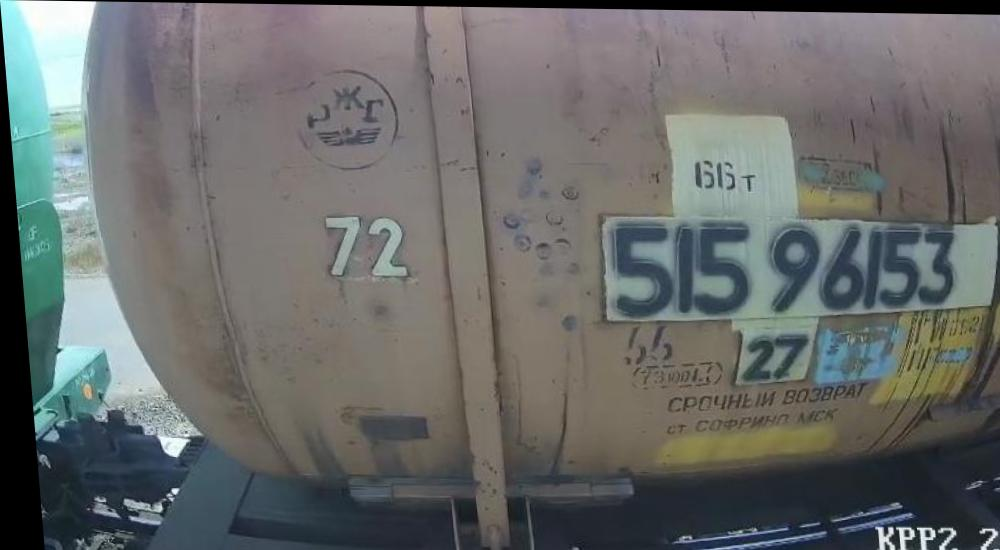Wagon-number: (596, 212, 966, 324)
